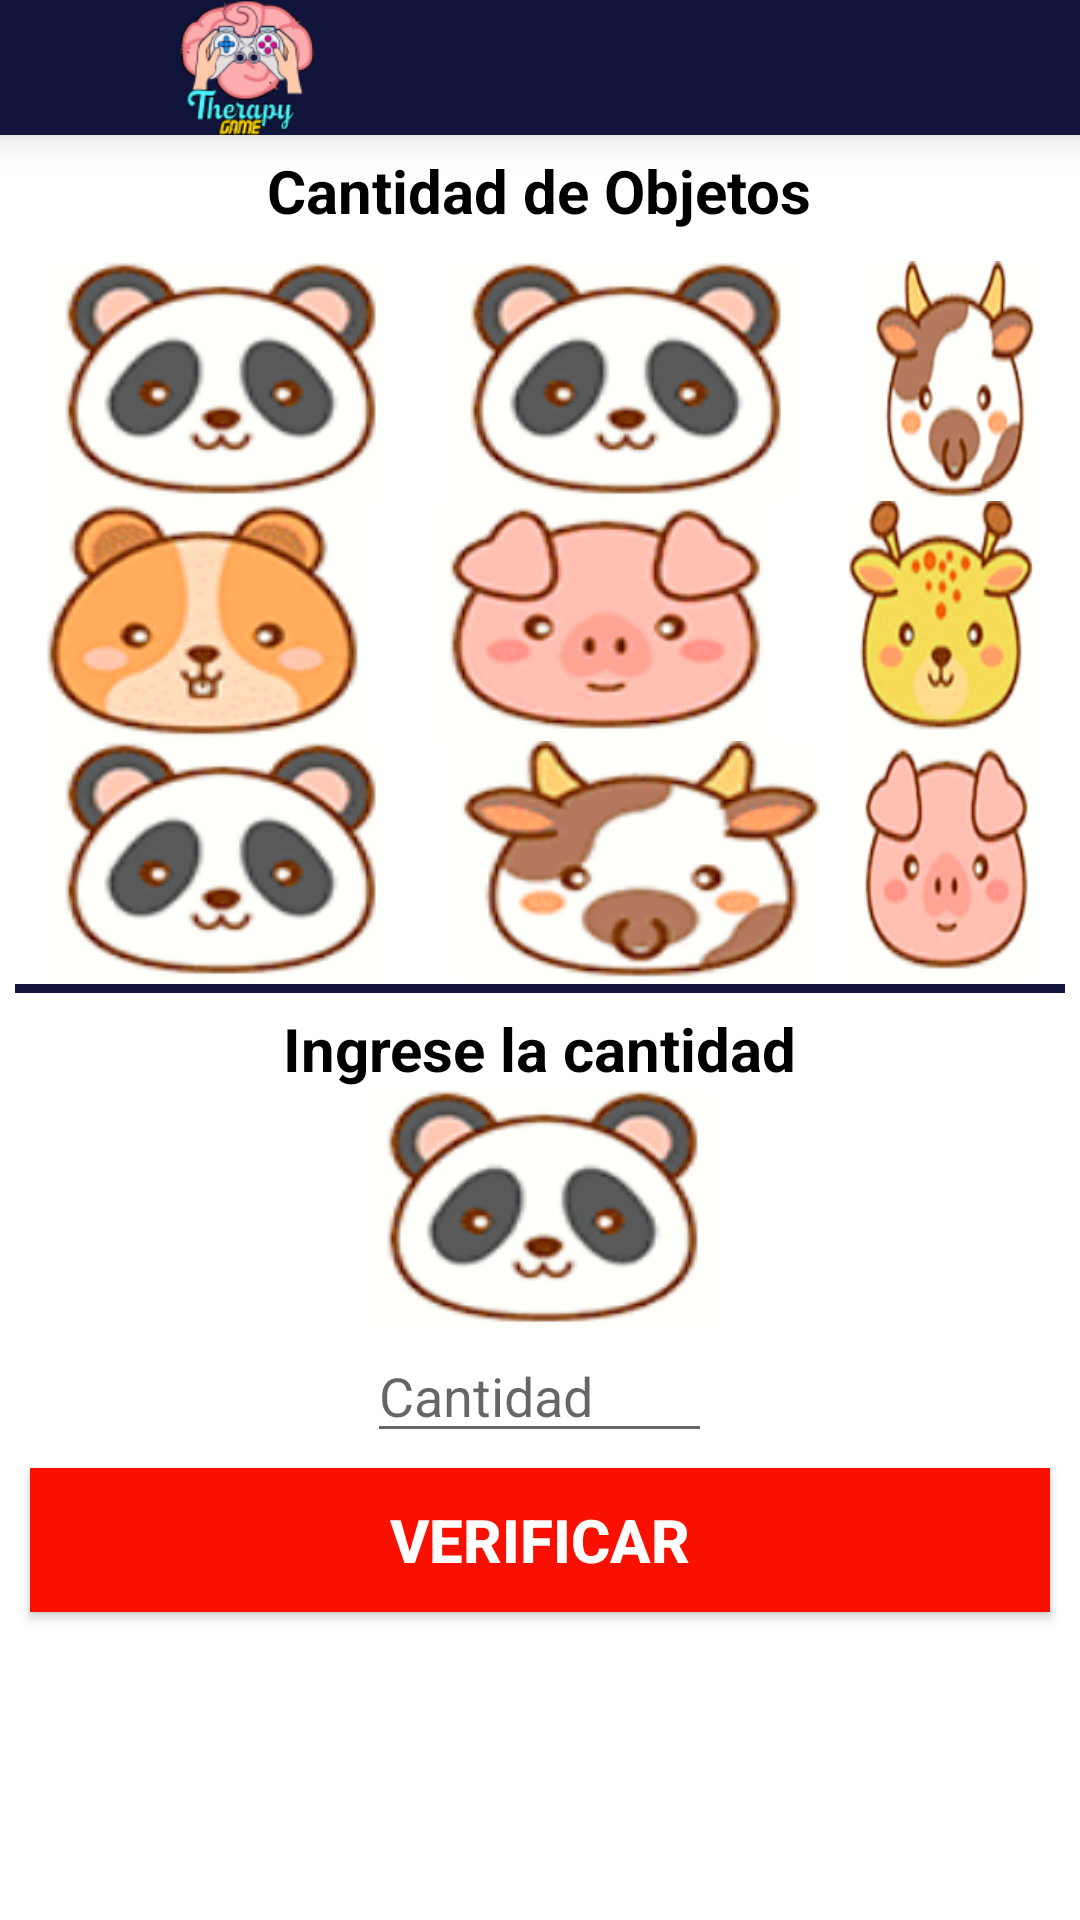

Icons on this 1080px x 1920px Android screen, each with its box as (x1, y1, x2, y2):
ardilla: (47, 505, 358, 735)
cerdo: (450, 508, 760, 729), (865, 748, 1028, 969)
jirafa: (849, 501, 1033, 729)
oso: (66, 263, 376, 494), (471, 263, 781, 494), (66, 743, 376, 974), (388, 1091, 698, 1322)
vaca: (876, 261, 1034, 497), (463, 741, 820, 977)
